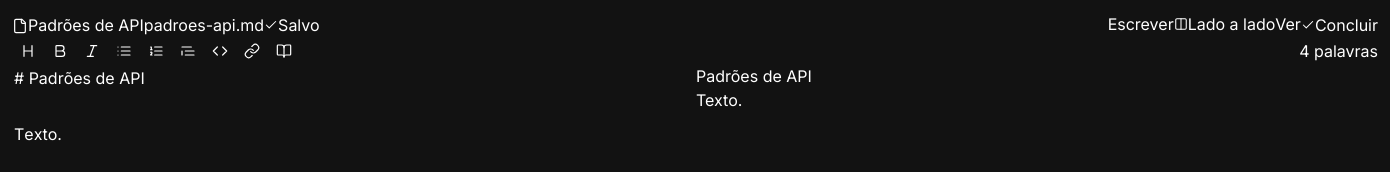
it: barra e atalhos › no modo Ver a barra fica desabilitada; os modos são botões com aria-pressed
The width and height of the screenshot is (1390, 172).
Click the button "Ver". click: (1288,24)
box: [1275, 12, 1301, 36]
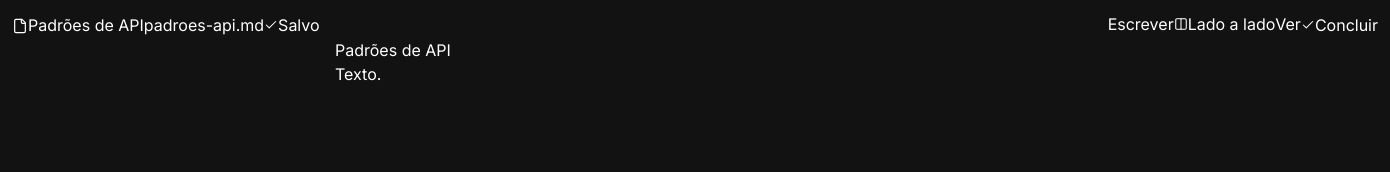
Expected: the element "Formatação" is gone
